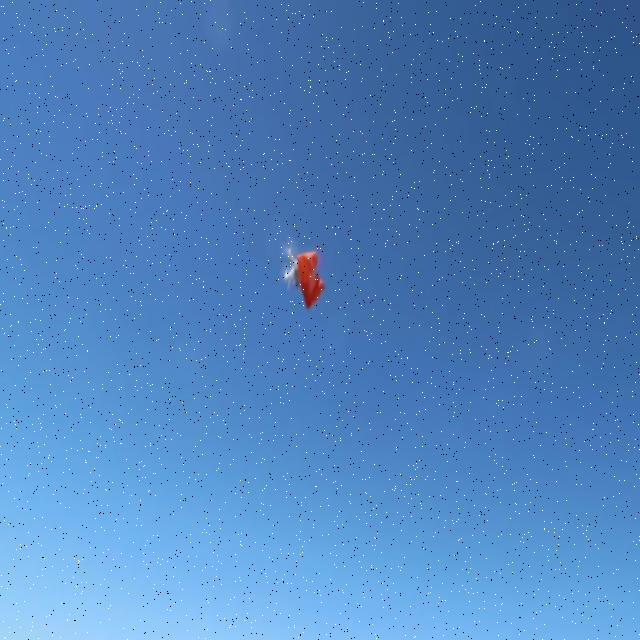UAV: (284, 246, 300, 290)
